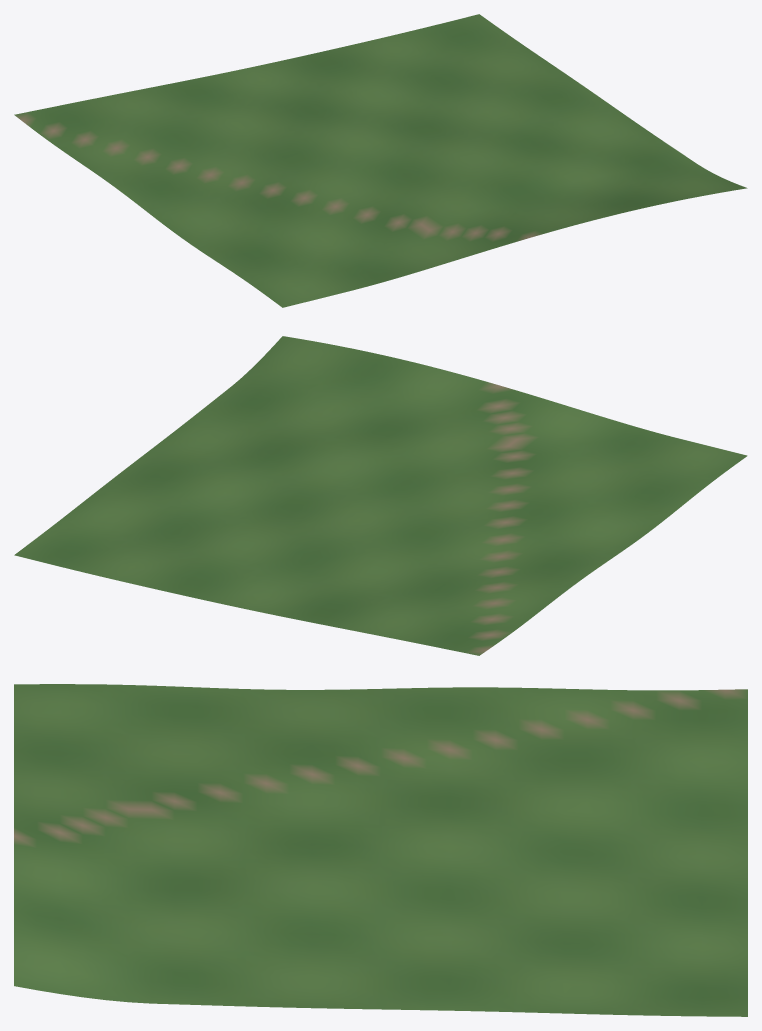
Rendered from chunk_10_9.glb.
3 renders of one model, top to bottom at view 1: azimuth 30°, elevation 25°; view 2: azimuth 150°, elevation 25°; view 3: azimuth 270°, elevation 25°, orthographic. The views are drawn at different scales.
Bounding box in the file's own units: 512 × 30.07 × 512.
